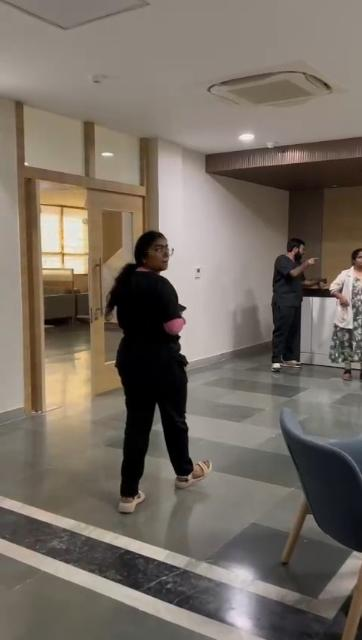floor: (0, 358, 362, 640)
moving-obj: (117, 227, 217, 503), (308, 252, 362, 378), (286, 244, 308, 380)
object: (263, 384, 362, 555), (46, 284, 86, 326)
wall: (186, 196, 270, 336)
